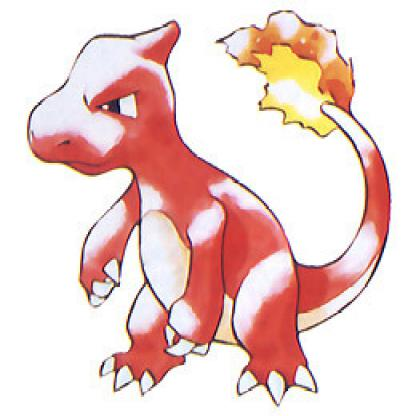Charmeleon: (3, 20, 416, 415)
